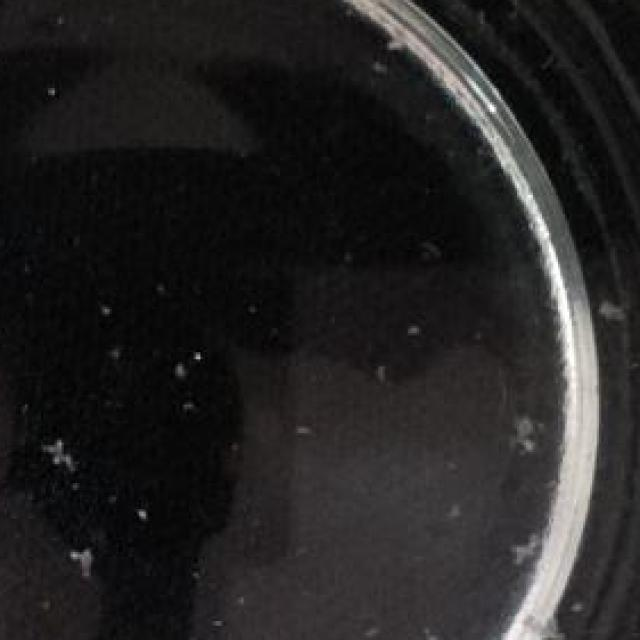Microplastic: (583, 276, 631, 340), (503, 523, 547, 583), (66, 524, 107, 588), (508, 404, 547, 457), (510, 606, 567, 640), (41, 419, 75, 473)
